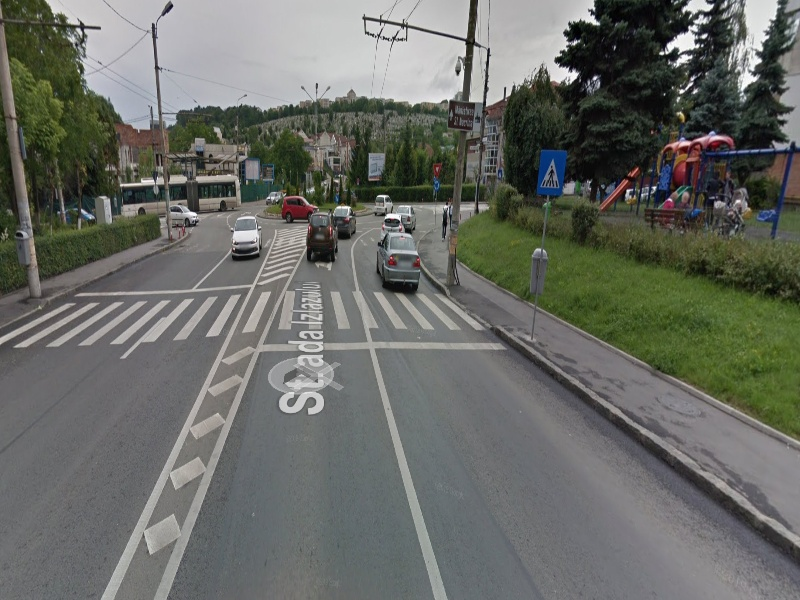crosswalk: (1, 289, 505, 353)
crosswalk_sign: (532, 148, 568, 197)
pedestrian: (439, 200, 450, 241)
